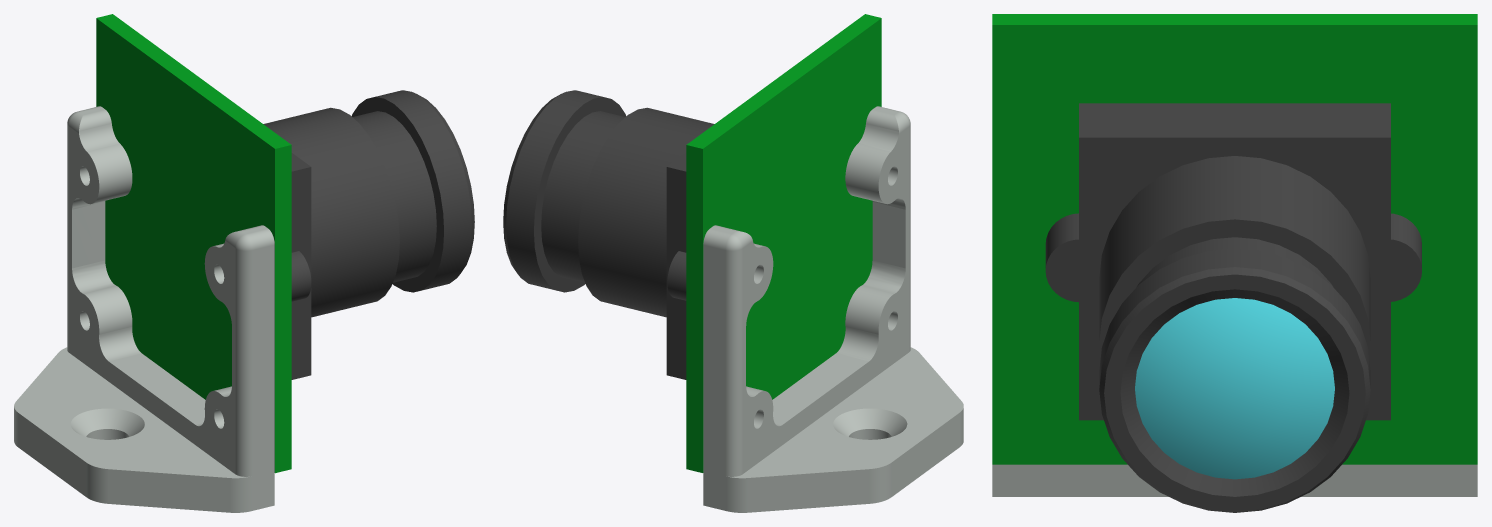
File: camera.dae
The picture shows the model from 3 angles, left to right: view 1: azimuth 30°, elevation 25°; view 2: azimuth 150°, elevation 25°; view 3: azimuth 270°, elevation 25°; orthographic projection. The views are drawn at different scales.
Visible parts, largest first — view 1: camera, frame; view 2: camera, frame; view 3: camera, frame.
Part boxes in pixels (bbox=[...]): camera: bbox=[96, 14, 474, 473]; frame: bbox=[14, 106, 274, 512]; camera: bbox=[503, 14, 881, 472]; frame: bbox=[703, 106, 963, 512]; camera: bbox=[992, 14, 1477, 512]; frame: bbox=[992, 464, 1477, 496].
Size of the model in its own units: 0.0343 by 0.028 by 0.0308.
